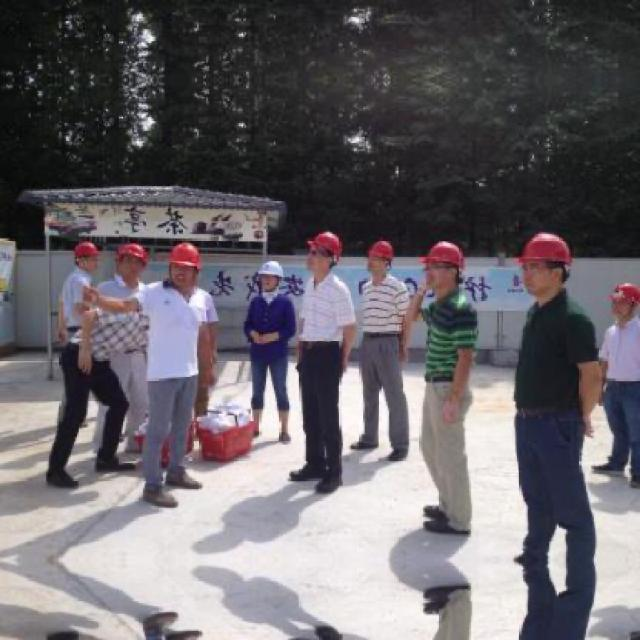con casco: (285, 210, 374, 287), (413, 236, 478, 316), (510, 239, 578, 310), (368, 232, 428, 294), (182, 234, 236, 302), (236, 255, 293, 312), (117, 239, 174, 292), (55, 245, 111, 287)
